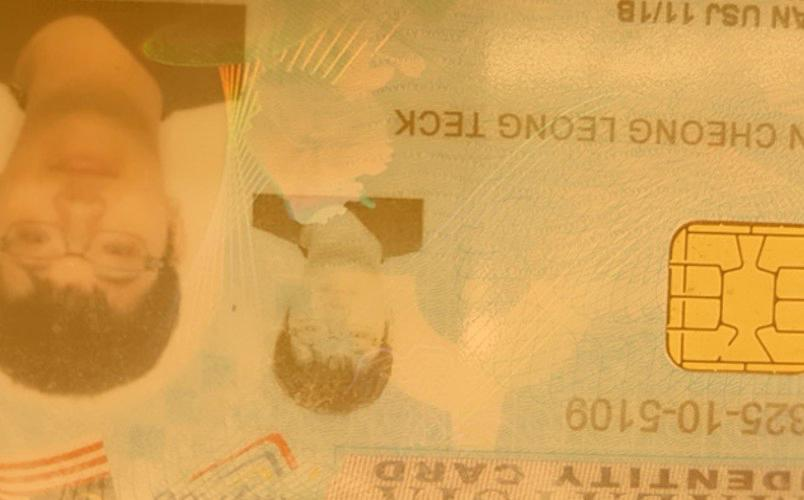hologramB: (244, 12, 391, 191)
